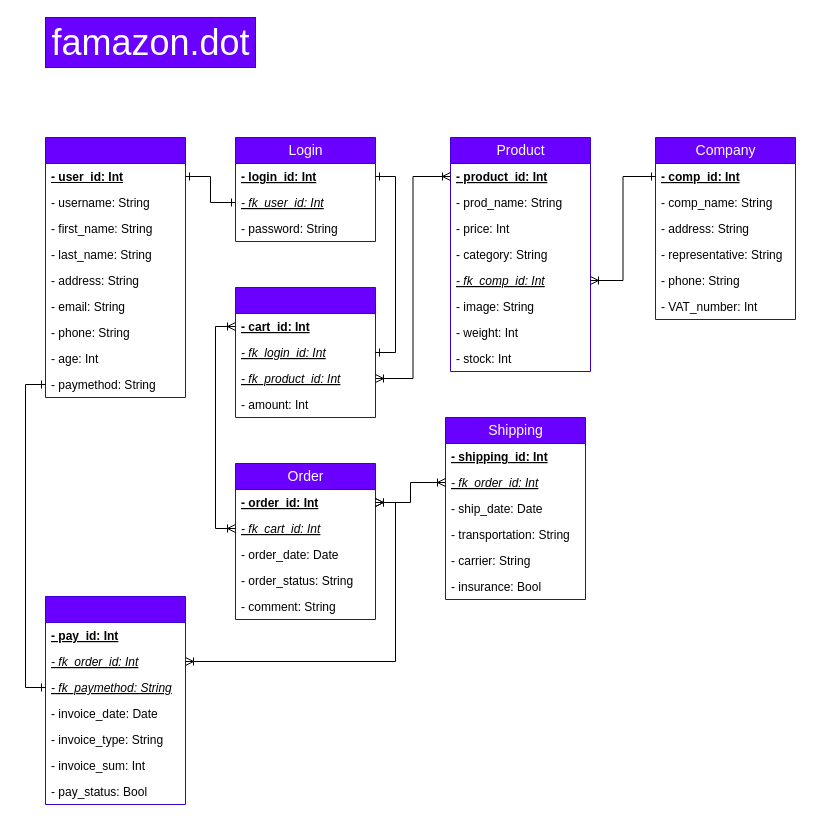
Image size: 813x825. Some labels were removed from this diagram. Each missing label, with the box of its shape:
Classname: (44, 136, 186, 398)
Payment: (44, 596, 186, 804)
Website: (234, 286, 376, 418)
